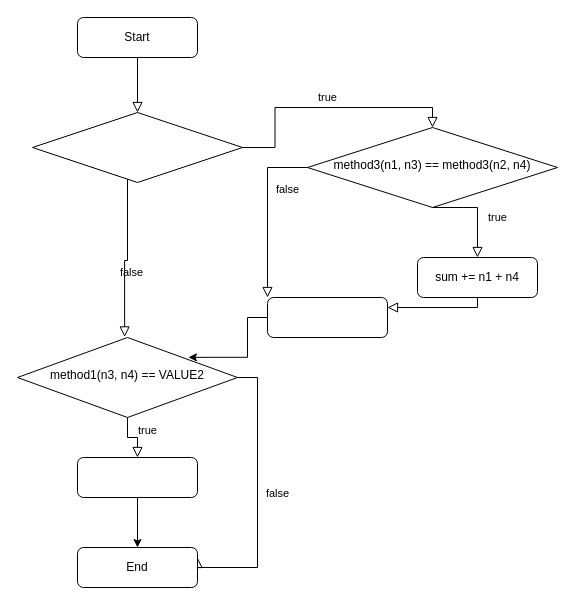
This 575x605 diagram has some shape labels left out. The centre of each missing label's shape, as x and y in pixels:
"method2(n1, n2) == VALUE1" belongs at (137,147).
"sum += n1 + n2" belongs at (327,317).
"sum += n3 + n4" belongs at (137,477).
